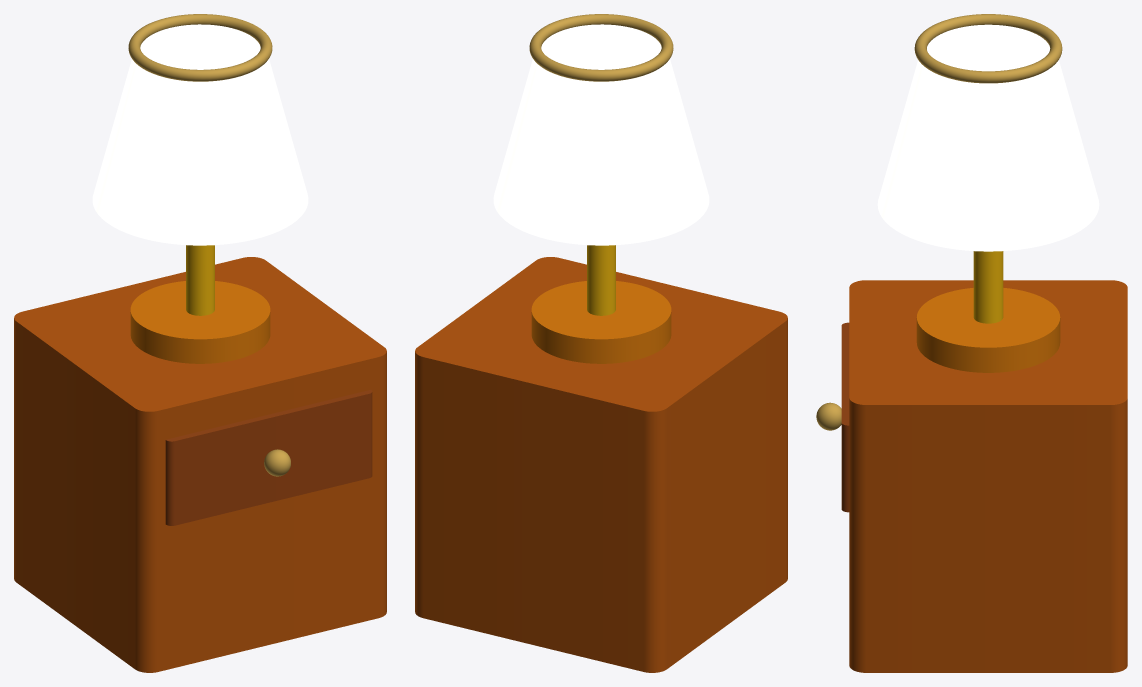
The model's file is desk_lamp.glb.
3 renders of one model, left to right at view 1: azimuth 30°, elevation 25°; view 2: azimuth 150°, elevation 25°; view 3: azimuth 270°, elevation 25°, orthographic. The views are drawn at different scales.
Visible parts, largest first — view 1: nightstand, lamp_shade, drawer, lamp_base, shade_rim, lamp_stem, knob; view 2: nightstand, lamp_shade, lamp_base, shade_rim, lamp_stem; view 3: nightstand, lamp_shade, lamp_base, shade_rim, lamp_stem, drawer, knob.
Part boxes in pixels (box(x1,y1,x2,y2)): nightstand: box(14, 257, 386, 672); lamp_shade: box(92, 24, 308, 245); drawer: box(165, 389, 372, 525); lamp_base: box(130, 281, 270, 363); shade_rim: box(128, 14, 272, 81); lamp_stem: box(186, 245, 214, 315); knob: box(264, 449, 290, 476); nightstand: box(415, 257, 787, 672); lamp_shade: box(493, 24, 709, 245); lamp_base: box(531, 281, 671, 363); shade_rim: box(529, 14, 673, 81); lamp_stem: box(587, 245, 615, 315); nightstand: box(849, 280, 1127, 672); lamp_shade: box(877, 24, 1099, 251); lamp_base: box(916, 288, 1060, 372); shade_rim: box(914, 14, 1062, 83); lamp_stem: box(973, 251, 1003, 323); drawer: box(841, 322, 849, 512); knob: box(816, 402, 841, 430).
Size of the model in its own units: 0.34 by 0.72 by 0.358.
